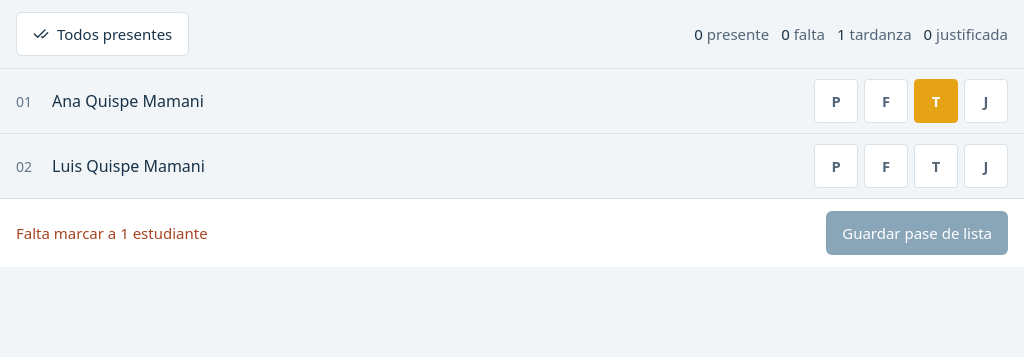
Test case: AttendanceSheet › si el envío falla, muestra el error y conserva lo marcado
This screenshot has width=1024, height=357.
Click the radio button named "Luis Quispe Mamani: Justificada": (986, 166) [964,144,1008,188]
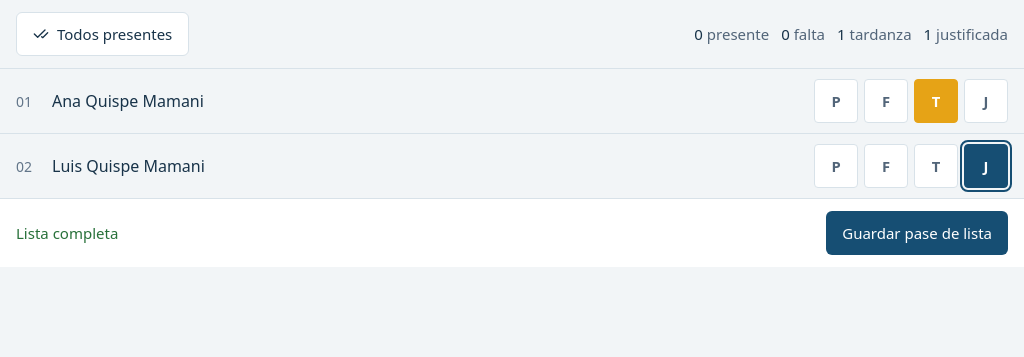
Click the button "Guardar pase de lista": (917, 233) [826,211,1008,255]
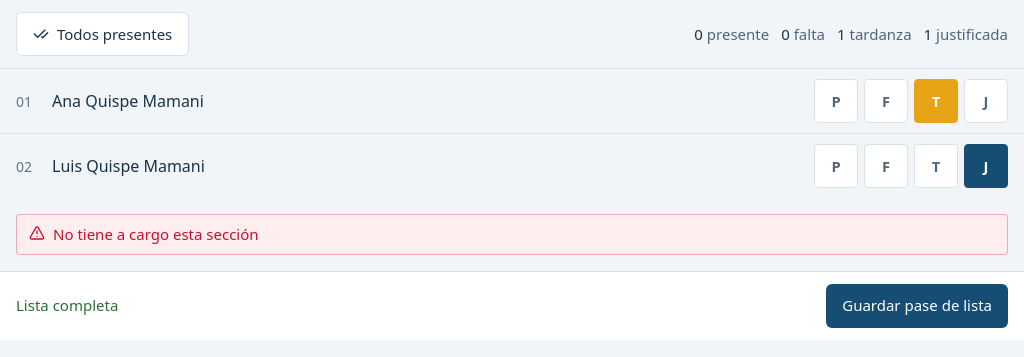
Check: the radio button named "Ana Quispe Mamani: Tardanza" is checked, box [914,79,958,123]
Check: the radio button named "Luis Quispe Mamani: Justificada" is checked, box [964,144,1008,188]
Check: the message reads "No tiene a cargo esta sección", box [53,224,259,244]
